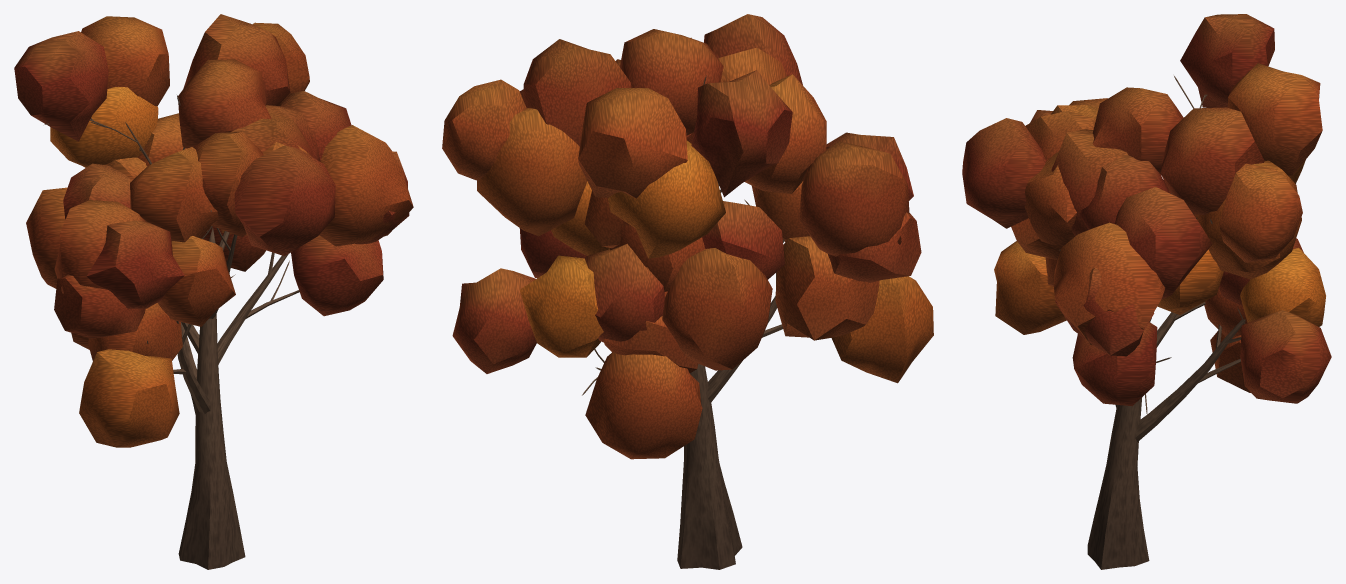
The model's file is fm_tree_autumn_b.glb.
The picture shows the model from 3 angles, left to right: view 1: azimuth 30°, elevation 25°; view 2: azimuth 150°, elevation 25°; view 3: azimuth 270°, elevation 25°; orthographic projection. The views are drawn at different scales.
Visible parts, largest first — view 1: fm_tree_autumn_b; view 2: fm_tree_autumn_b; view 3: fm_tree_autumn_b.
Part boxes in pixels (left/top/right/bottom): fm_tree_autumn_b: left=14, top=14, right=413, bottom=569; fm_tree_autumn_b: left=442, top=14, right=933, bottom=569; fm_tree_autumn_b: left=962, top=14, right=1331, bottom=569.
Bounding box in the file's own units: 7.07 × 9.3 × 6.27.
2 materials, 2 textured.
